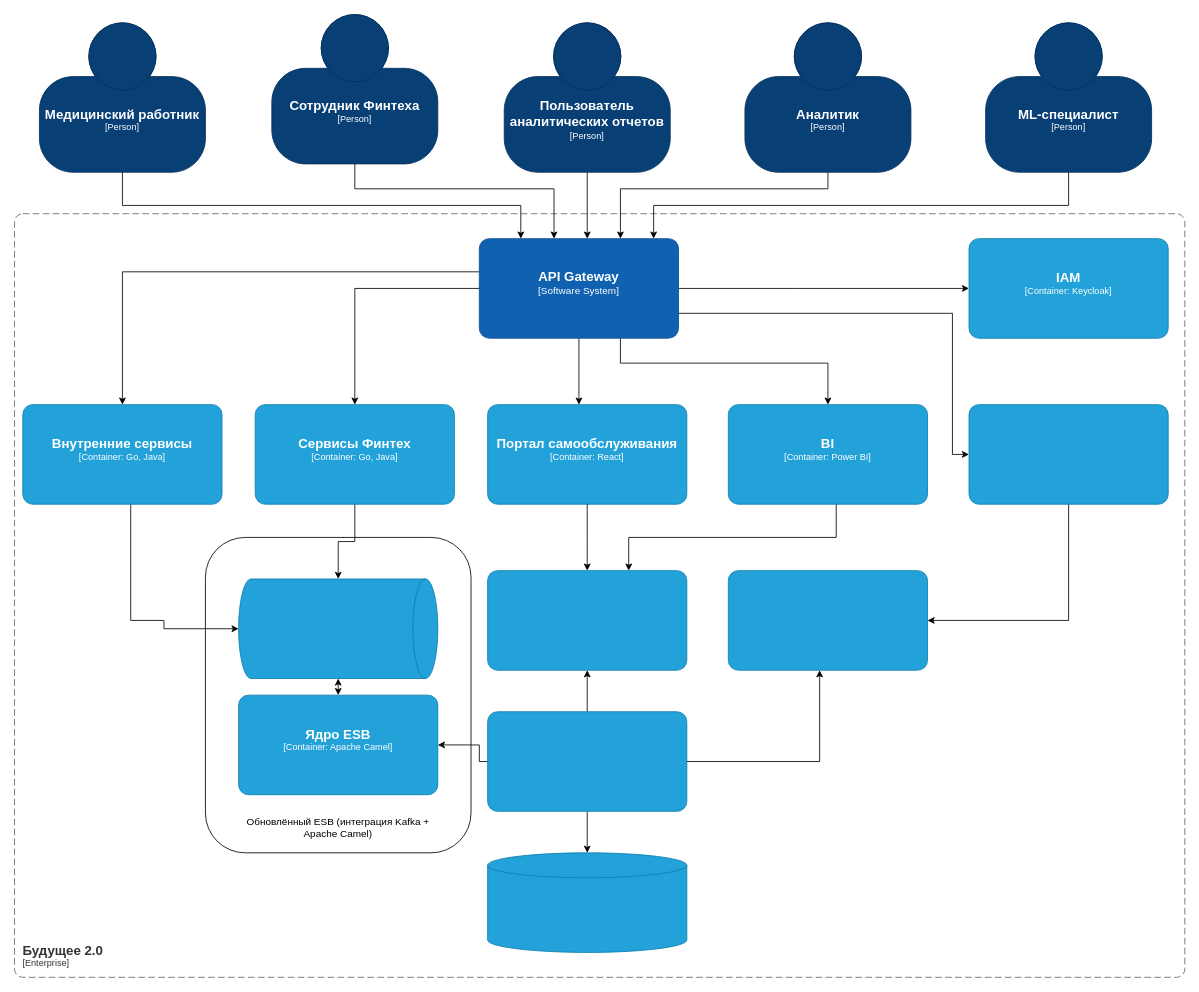
The diagram is 1199 pixels wide and 992 high, and some of its shapes have lost their labels. The centre of each missing label's shape, as x and y in pixels:
AI [Container: Python]: the point at 1068,454
DataLake [Container: MinIO, Apache Iceberg]: the point at 827,620
Legacy DWH [Container: SQL Server]: the point at 587,902
Modern DWH [Container: Snowflake]: the point at 587,620
Брокер сообщений [Container: Apache Kafka]: the point at 338,628
Сервис интеграции [Container: Apache Airflow]: the point at 587,761
